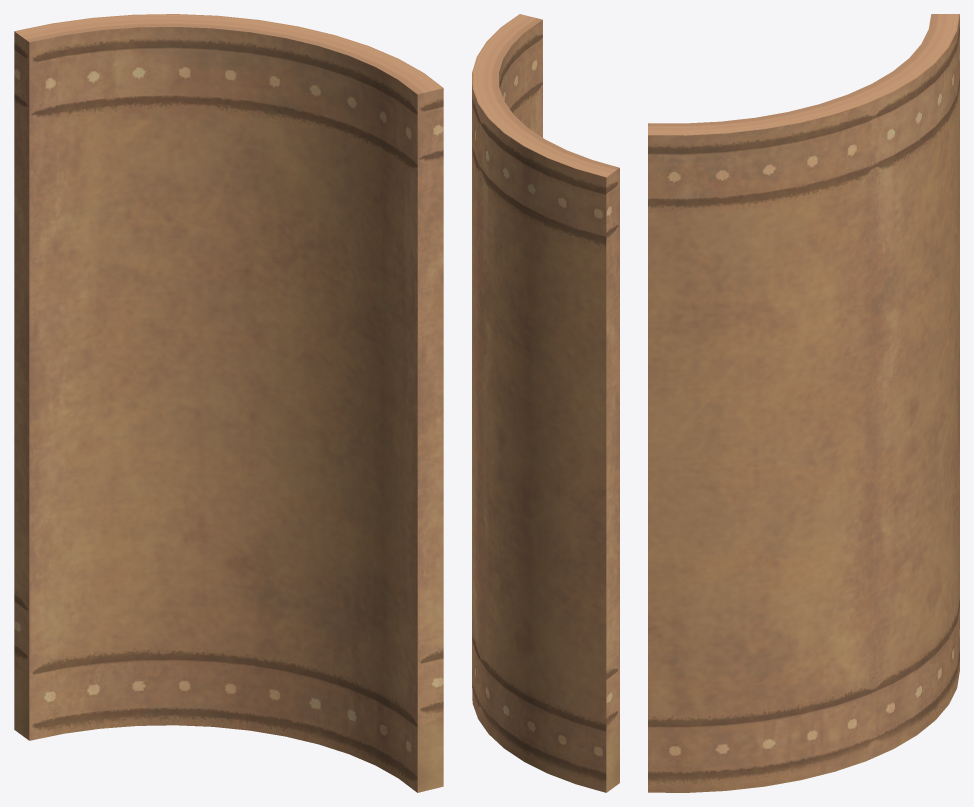
The model's file is Wall_1_Corner.fbx.
The picture shows the model from 3 angles, left to right: view 1: azimuth 30°, elevation 25°; view 2: azimuth 150°, elevation 25°; view 3: azimuth 270°, elevation 25°; orthographic projection. The views are drawn at different scales.
Visible parts, largest first — view 1: Wall_1_Corner; view 2: Wall_1_Corner; view 3: Wall_1_Corner.
Part boxes in pixels (x1,y1,x2,y2): Wall_1_Corner: (14, 14, 443, 792); Wall_1_Corner: (472, 14, 619, 792); Wall_1_Corner: (648, 14, 959, 792).
Bounding box in the file's own units: 1 × 2.53 × 1.09.
